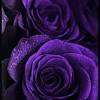rose: (12, 38, 100, 100), (20, 1, 80, 39)
